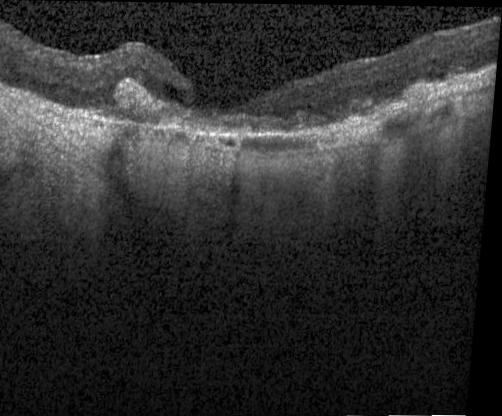intraretinal_cyst: (166, 84, 189, 103)
lamellar_macular_rupture: (192, 82, 266, 108)
subretinal_hyperreflective_material: (96, 79, 340, 132), (382, 63, 496, 115)
